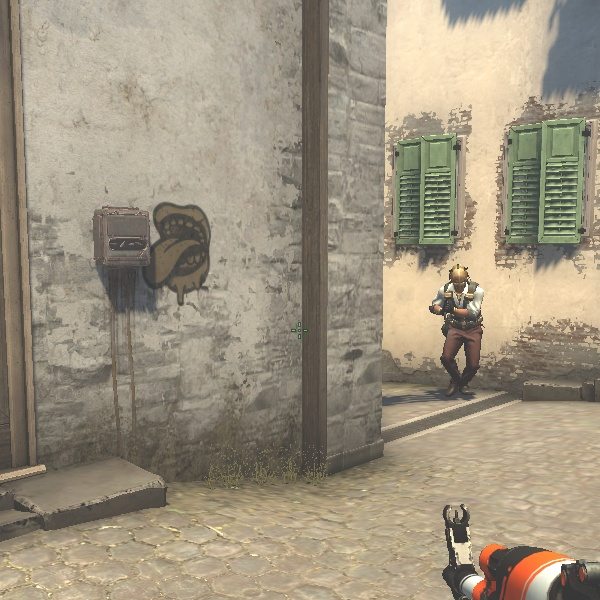t_body: (421, 258, 497, 393)
t_head: (440, 262, 474, 296)
